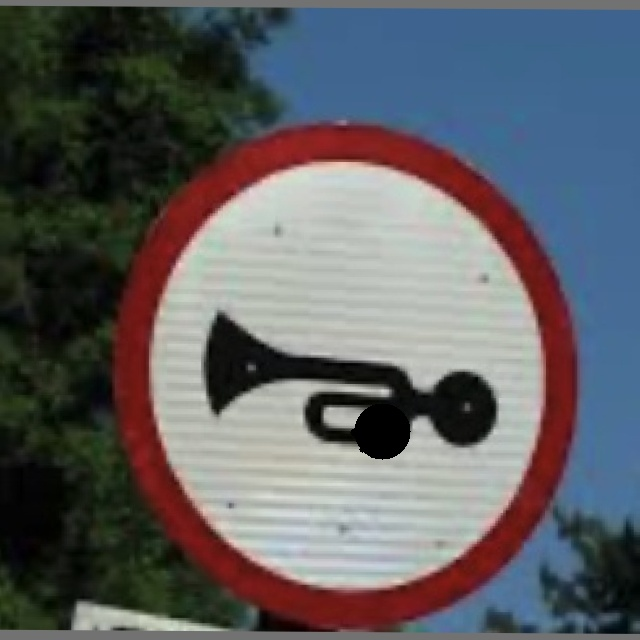Compulsory_Sound_Horn: (124, 132, 564, 591)
